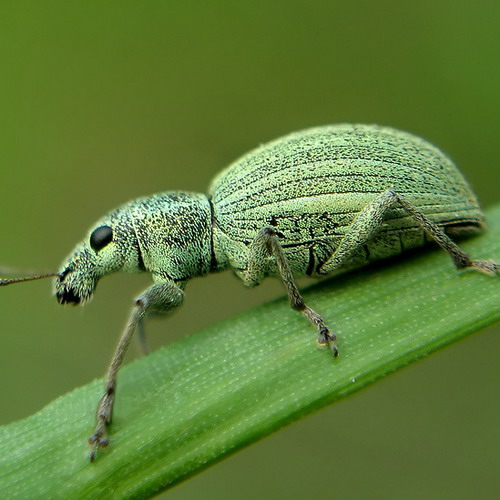dolgonosik: (14, 119, 499, 463)
